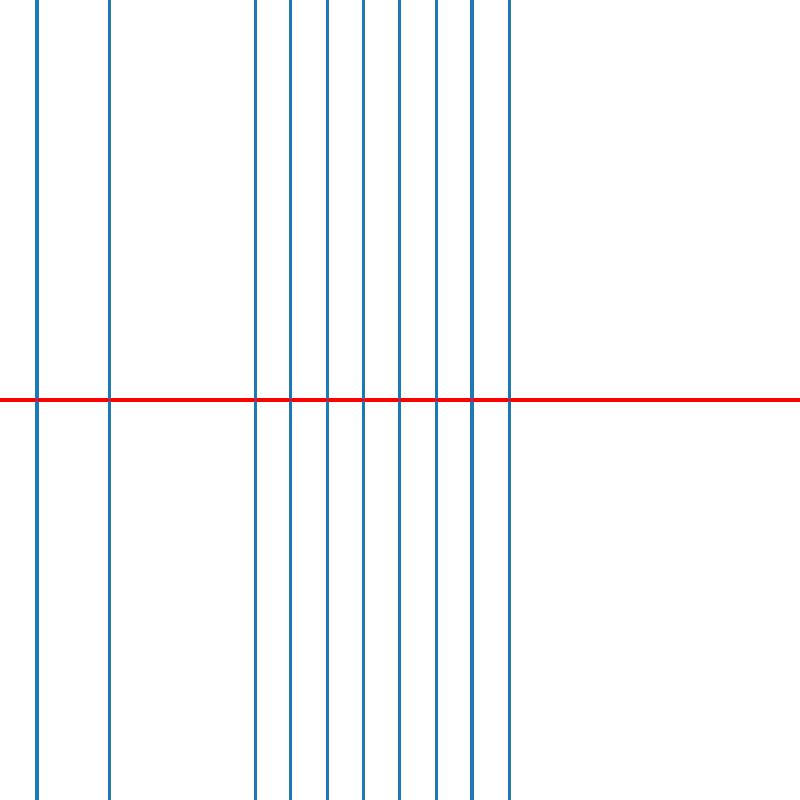root: (250, 396, 258, 404), (432, 396, 440, 404), (32, 396, 40, 404), (396, 396, 403, 404), (360, 396, 367, 404), (323, 396, 330, 404), (105, 396, 112, 404), (505, 396, 512, 404), (287, 396, 294, 404), (469, 396, 476, 404)
